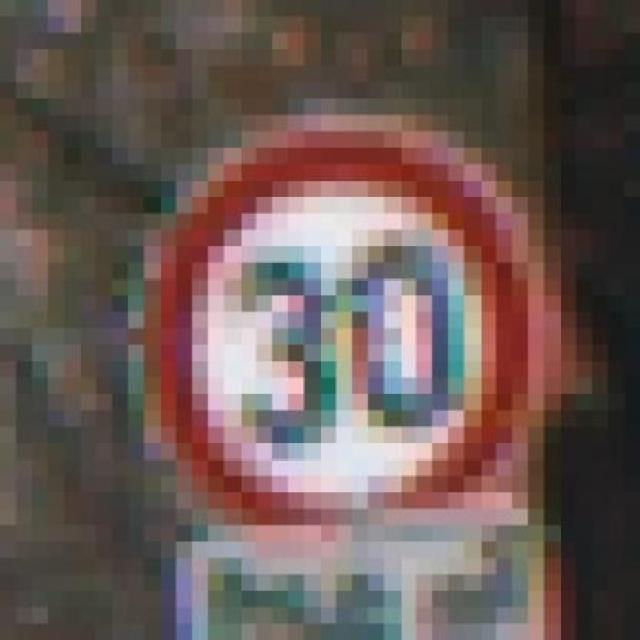forb_speed_over_30: (145, 135, 530, 521)
